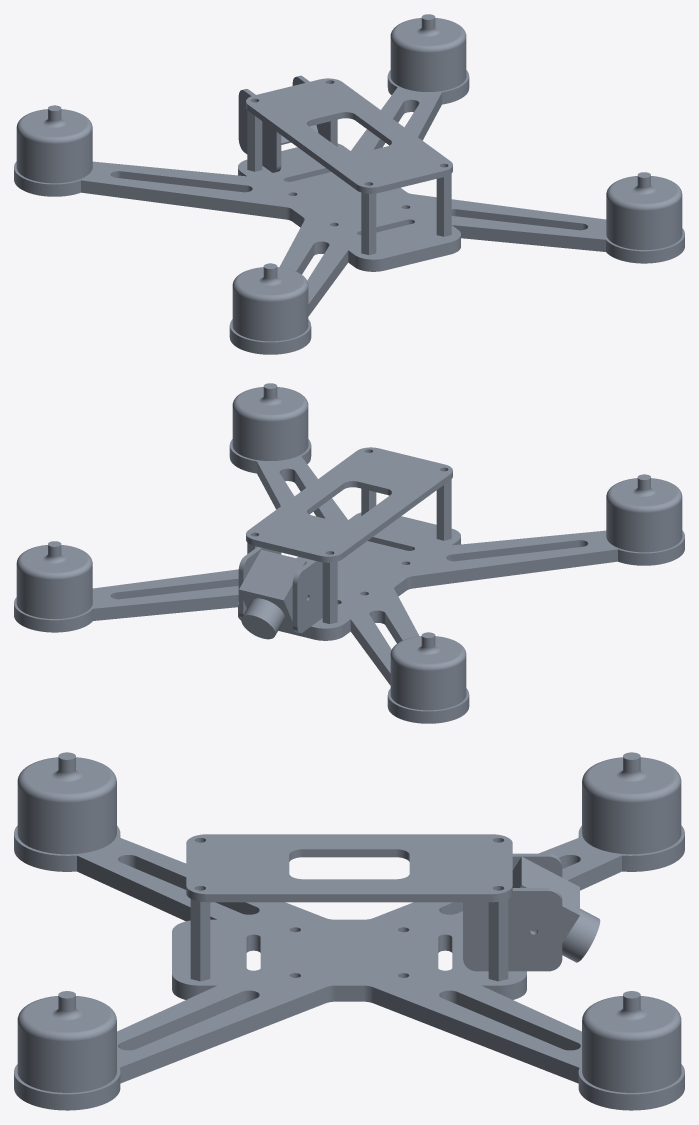
The model's file is step-7-preview-1.glb.
3 renders of one model, top to bottom at view 1: azimuth 30°, elevation 25°; view 2: azimuth 150°, elevation 25°; view 3: azimuth 270°, elevation 25°, orthographic. The views are drawn at different scales.
Visible parts, largest first — view 1: preview_4, preview_139, preview_177, preview_163, preview_184, preview_170, preview_16, preview_11, preview_154, preview_166, preview_187, preview_173 (+13 smaller); view 2: preview_4, preview_139, preview_170, preview_184, preview_163, preview_177, preview_8, preview_193, preview_27, preview_154, preview_187, preview_166 (+16 smaller); view 3: preview_4, preview_139, preview_143, preview_170, preview_177, preview_163, preview_184, preview_15, preview_23, preview_125, preview_166, preview_187 (+22 smaller).
Part boxes in pixels (x1,y1,x2,y2): preview_4: (14, 70, 684, 342); preview_139: (246, 78, 452, 187); preview_177: (16, 129, 92, 183); preview_163: (606, 196, 682, 249); preview_184: (390, 39, 466, 91); preview_170: (232, 288, 308, 341); preview_16: (81, 180, 286, 219); preview_11: (452, 225, 605, 251); preview_154: (238, 90, 276, 172); preview_166: (611, 176, 676, 203); preview_187: (396, 18, 460, 45); preview_173: (238, 267, 302, 294); preview_4: (14, 439, 684, 711); preview_139: (246, 447, 452, 556); preview_170: (606, 498, 682, 552); preview_184: (16, 565, 92, 618); preview_163: (232, 408, 308, 460); preview_177: (390, 657, 466, 710); preview_8: (412, 549, 617, 588); preview_193: (239, 550, 305, 600); preview_27: (93, 595, 238, 620); preview_154: (297, 561, 322, 633); preview_187: (22, 545, 87, 572); preview_166: (238, 387, 302, 414); preview_4: (14, 825, 684, 1094); preview_139: (186, 834, 512, 894); preview_143: (463, 891, 562, 971); preview_170: (17, 782, 116, 854); preview_177: (582, 782, 681, 854); preview_163: (17, 1021, 116, 1092); preview_184: (582, 1021, 681, 1092); preview_15: (119, 987, 325, 1083); preview_23: (373, 987, 579, 1083); preview_125: (207, 894, 491, 902); preview_166: (24, 996, 109, 1031); preview_187: (589, 996, 674, 1031).
Size of the model in its own units: 0.1891 by 0.0325 by 0.1891.
